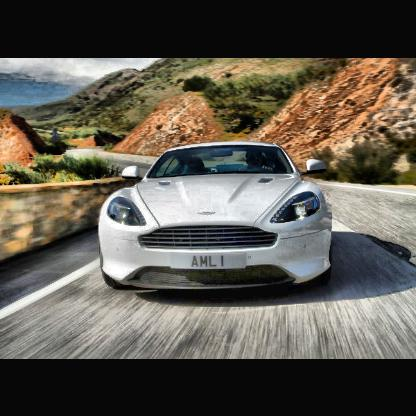Aston Martin V8 Vantage Coupe 2012: (89, 137, 351, 305)
